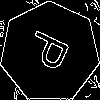P: (24, 27, 80, 77)
